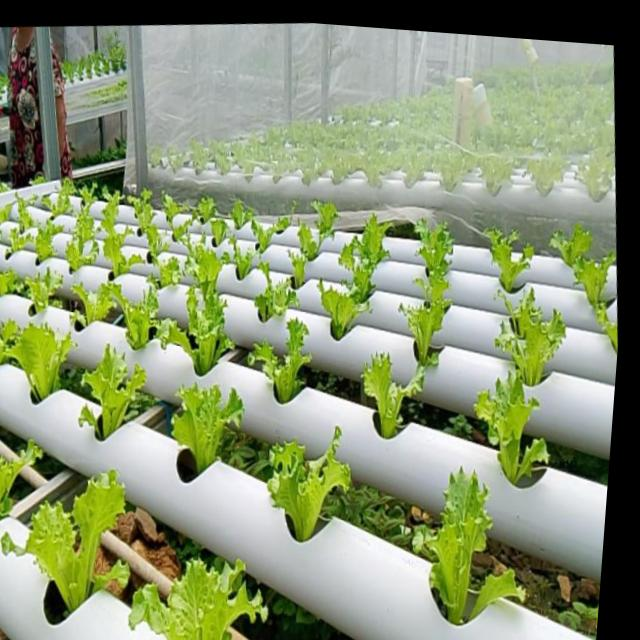Baby: (0, 466, 126, 607), (410, 465, 487, 622), (125, 555, 264, 640), (264, 425, 348, 540), (470, 369, 544, 483), (397, 219, 450, 373), (168, 383, 241, 481), (492, 287, 561, 385), (78, 343, 143, 439), (4, 317, 73, 399), (245, 318, 308, 402), (359, 352, 421, 437), (97, 279, 166, 349), (336, 214, 389, 301), (239, 262, 296, 322), (567, 251, 612, 324), (314, 280, 367, 339), (481, 227, 529, 292), (62, 187, 98, 271), (181, 236, 227, 299), (39, 178, 71, 215), (31, 218, 58, 261), (155, 255, 178, 286), (167, 213, 190, 244), (14, 194, 32, 232)
